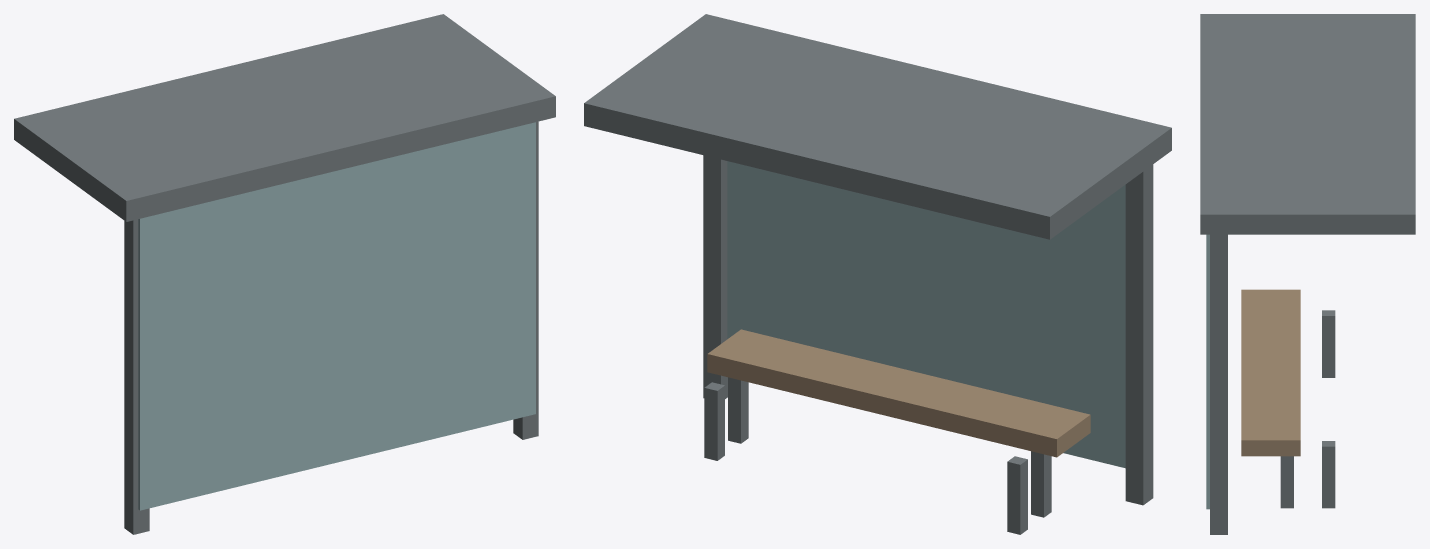
File: bus_shelter.glb
3 renders of one model, left to right at view 1: azimuth 30°, elevation 25°; view 2: azimuth 150°, elevation 25°; view 3: azimuth 270°, elevation 25°, orthographic. The views are drawn at different scales.
Parts seen in each view (by area): view 1: body; view 2: body; view 3: body.
Boxes of the visible parts, x1=… form: body: x1=14, y1=14, x2=555, y2=534; body: x1=584, y1=14, x2=1171, y2=534; body: x1=1200, y1=14, x2=1415, y2=534.
Bounding box in the file's own units: 3.2 × 2.42 × 1.45.
